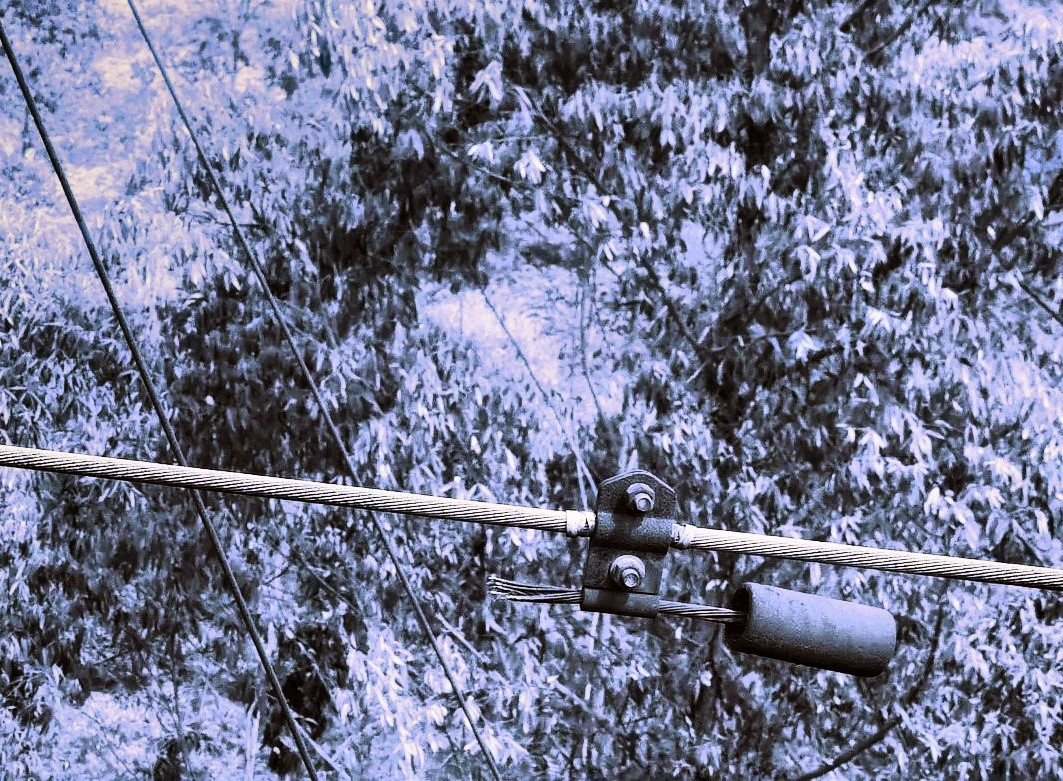Damage of shockproof hammer: (469, 454, 909, 684)
